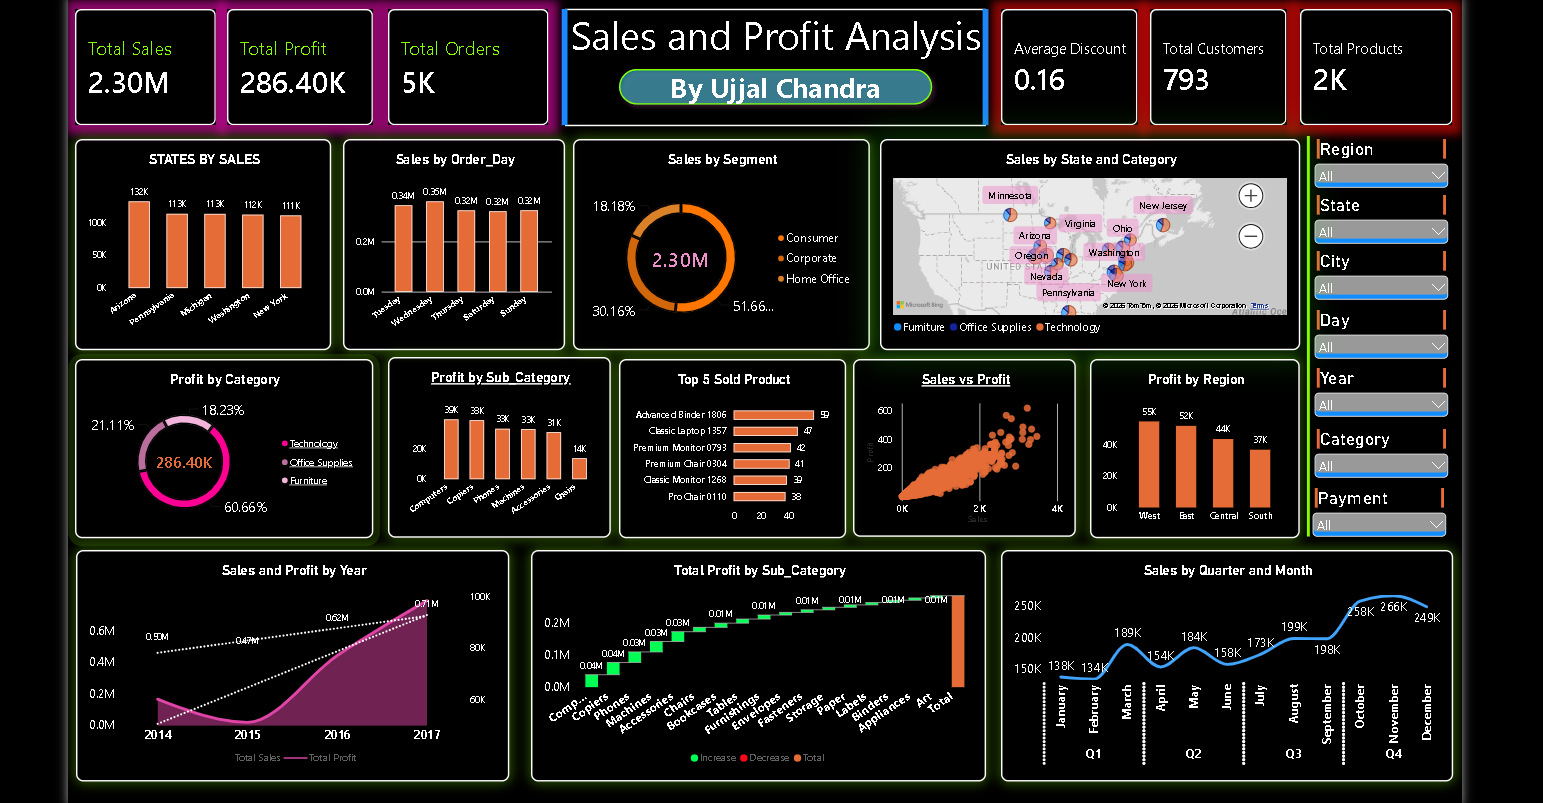

The dashboard page shown, as its layout file describes it:
{"tool":"powerbi","page":{"name":"Sales & Profit Analysis","canvas":[1920,1116],"ordinal":0},"visuals":[{"type":"shape","box":[684.9,18.1,580.5,71.1],"z":0},{"type":"shape","box":[748.3,89.2,453.5,71.1],"z":1000},{"type":"shape","box":[684.3,160,580,37.1],"z":2000},{"type":"shape","box":[684.3,0,580,37.1],"z":3000},{"type":"shape","box":[662.9,18.6,43,160],"z":4000},{"type":"shape","box":[1242.9,18.6,42.9,160],"z":5000},{"type":"cardVisual","fields":{"Data":["Sales_Data.Total Sales"]},"box":[10,18.6,194.3,160],"z":6000},{"type":"cardVisual","fields":{"Data":["Sales_Data.Total Orders"]},"box":[441.4,18.6,221.4,160],"z":7000},{"type":"cardVisual","fields":{"Data":["Sales_Data.Average Discount"]},"box":[1285.7,18.6,188.6,160],"z":8000},{"type":"cardVisual","fields":{"Data":["Sales_Data.Total Customers"]},"box":[1491.4,18.6,188.6,160],"z":9000},{"type":"cardVisual","fields":{"Data":["Sales_Data.Total Profit"]},"box":[218.6,18.6,201.4,160],"z":10000},{"type":"cardVisual","fields":{"Data":["Sales_Data.Total Products"]},"box":[1697.1,18.6,210,160],"z":11000},{"type":"slicer","fields":{"Values":["Sales_Data.Order_Day"]},"box":[1712.9,432.9,194.3,80],"z":12000},{"type":"slicer","fields":{"Values":["Sales_Data.Year"]},"box":[1712.9,512.9,194.3,84.3],"z":13000},{"type":"slicer","fields":{"Values":["Sales_Data.City"]},"box":[1712.9,351.4,194.3,81.4],"z":14000},{"type":"slicer","fields":{"Values":["Sales_Data.Category"]},"box":[1712.9,597.1,194.3,81.4],"z":15000},{"type":"slicer","fields":{"Values":["Sales_Data.State"]},"box":[1712.9,274.3,194.3,77.1],"z":16000},{"type":"slicer","fields":{"Values":["Sales_Data.Region"]},"box":[1712.9,197.1,194.3,77.1],"z":17000},{"type":"clusteredColumnChart","title":"STATES BY SALES","fields":{"Category":["Sales_Data.State"],"Y":["Sales_Data.Total Sales"]},"box":[10,197.1,352.9,291.4],"z":18000},{"type":"clusteredColumnChart","title":"Sales by Order_Day","fields":{"Category":["Sales_Data.Order_Day"],"Y":["Sales_Data.Total Sales"]},"box":[378.6,197.1,305.7,291.4],"z":19000},{"type":"donutChart","title":" Sales by Segment","fields":{"Category":["Sales_Data.Segment"],"Y":["Sales_Data.Total Sales"]},"box":[695.7,197.1,408.6,291.4],"z":20000},{"type":"map","title":" Sales by State and Category","fields":{"Category":["Sales_Data.State"],"Size":["Sales_Data.Total Sales"],"Series":["Sales_Data.Category"]},"box":[1118.6,197.1,578.6,291.4],"z":21000},{"type":"donutChart","title":" Profit by Category","fields":{"Category":["Sales_Data.Category"],"Y":["Sales_Data.Total Profit"]},"box":[9.6,500.1,410.6,246.6],"z":22000},{"type":"clusteredColumnChart","title":"Profit by Sub_Category","fields":{"Category":["Sales_Data.Sub_Category"],"Y":["Sales_Data.Total Profit"]},"box":[440.9,497.4,307.2,249.4],"z":23000},{"type":"clusteredBarChart","title":"Top 5 Sold Product","fields":{"Category":["Sales_Data.Product_Name"],"Y":["Sales_Data.Total Quantity"]},"box":[759.2,500.1,312.8,246.6],"z":24000},{"type":"scatterChart","title":"Sales vs Profit","fields":{"X":["Sales_Data.Sales"],"Y":["Sales_Data.Profit"]},"box":[1081.6,500.1,307.2,245.2],"z":25000},{"type":"clusteredColumnChart","title":"Profit by Region","fields":{"Y":["Sales_Data.Total Profit"],"Category":["Sales_Data.Region"]},"box":[1408.1,500.1,289.3,246.6],"z":26000},{"type":"lineClusteredColumnComboChart","title":"Sales and  Profit by Year","fields":{"Category":["Sales_Data.Year"],"Y":["Sales_Data.Total Sales"],"Y2":["Sales_Data.Total Profit"]},"box":[10.6,763.5,597.2,319],"z":27000},{"type":"waterfallChart","fields":{"Category":["Sales_Data.Sub_Category"],"Y":["Sales_Data.Total Profit"]},"box":[638,763.5,627.4,319],"z":28000},{"type":"lineChart","title":" Sales by  Quarter and Month","fields":{"Y":["Sales_Data.Total Sales"],"Category":["Sales_Data.Quarter","Sales_Data.Month_Name"]},"box":[1285,763.5,622.9,319],"z":29000},{"type":"slicer","fields":{"Values":["Sales_Data.Payment_Mode"]},"box":[1709.8,677.9,194.3,81.3],"z":30000},{"type":"shape","box":[1687.2,193.5,42.3,551.8],"z":31000}]}

Visuals, with their boxes in screenshot pixels (x1, y1, x2, y2):
shape: bbox=(561, 0, 988, 50)
shape: bbox=(607, 50, 941, 102)
shape: bbox=(560, 102, 987, 129)
shape: bbox=(560, 0, 987, 11)
shape: bbox=(544, 0, 576, 115)
shape: bbox=(971, 0, 1003, 115)
cardVisual - Sales_Data.Total Sales: bbox=(64, 0, 207, 115)
cardVisual - Sales_Data.Total Orders: bbox=(381, 0, 544, 115)
cardVisual - Sales_Data.Average Discount: bbox=(1003, 0, 1142, 115)
cardVisual - Sales_Data.Total Customers: bbox=(1154, 0, 1293, 115)
cardVisual - Sales_Data.Total Profit: bbox=(217, 0, 365, 115)
cardVisual - Sales_Data.Total Products: bbox=(1306, 0, 1460, 115)
slicer - Sales_Data.Order_Day: bbox=(1317, 303, 1460, 362)
slicer - Sales_Data.Year: bbox=(1317, 362, 1460, 424)
slicer - Sales_Data.City: bbox=(1317, 243, 1460, 303)
slicer - Sales_Data.Category: bbox=(1317, 424, 1460, 483)
slicer - Sales_Data.State: bbox=(1317, 186, 1460, 243)
slicer - Sales_Data.Region: bbox=(1317, 129, 1460, 186)
"STATES BY SALES" clusteredColumnChart: bbox=(64, 129, 323, 344)
"Sales by Order_Day" clusteredColumnChart: bbox=(335, 129, 560, 344)
" Sales by Segment" donutChart: bbox=(568, 129, 869, 344)
" Sales by State and Category" map: bbox=(880, 129, 1306, 344)
" Profit by Category" donutChart: bbox=(63, 352, 366, 534)
"Profit by Sub_Category" clusteredColumnChart: bbox=(381, 350, 607, 534)
"Top 5 Sold Product" clusteredBarChart: bbox=(615, 352, 846, 534)
"Sales vs Profit" scatterChart: bbox=(853, 352, 1079, 533)
"Profit by Region" clusteredColumnChart: bbox=(1093, 352, 1306, 534)
"Sales and  Profit by Year" lineClusteredColumnComboChart: bbox=(64, 546, 504, 781)
waterfallChart - Sales_Data.Sub_Category x Sales_Data.Total Profit: bbox=(526, 546, 988, 781)
" Sales by  Quarter and Month" lineChart: bbox=(1002, 546, 1461, 781)
slicer - Sales_Data.Payment_Mode: bbox=(1315, 483, 1458, 543)
shape: bbox=(1298, 126, 1330, 533)
